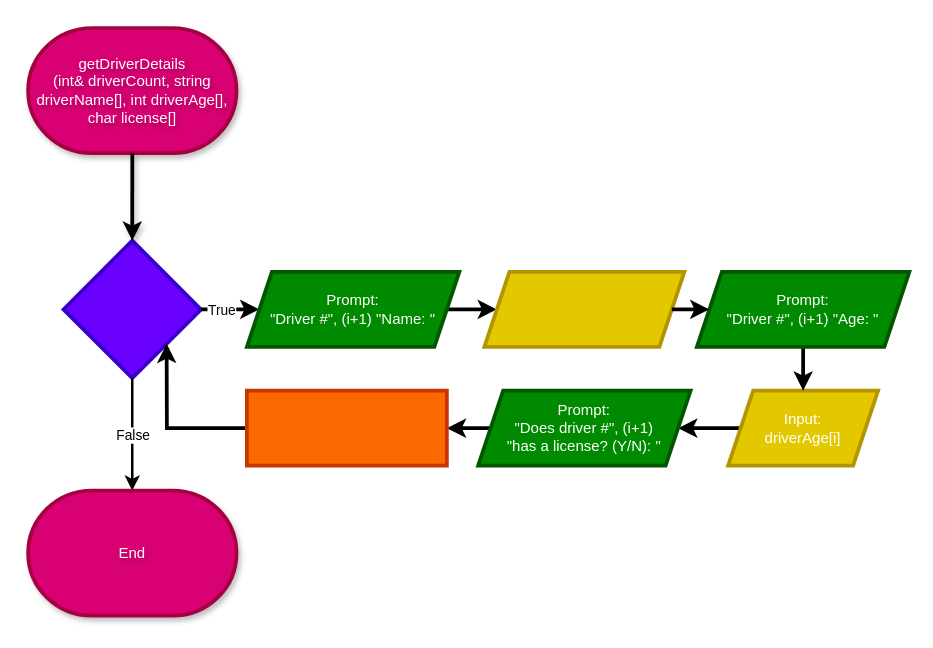
Some shapes in this 933 by 648 pixel diagram are drawn without their labels. Here are the shapes that lost their labels. From the top down, the centre of each, then its label:
At (x=131, y=308): "i = 0, i < driverCount, i++".
At (x=584, y=308): "Input: driverName[i]".
At (x=346, y=427): "license[i] = getValidCharacterInput()".
